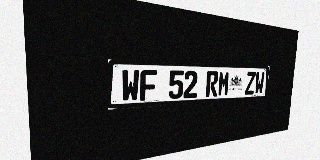2: (183, 70, 198, 98)
5: (169, 70, 184, 99)
F: (140, 70, 157, 101)
M: (217, 71, 230, 96)
R: (205, 71, 219, 97)
W: (121, 69, 140, 102), (254, 72, 265, 94)
Z: (245, 72, 256, 95)
